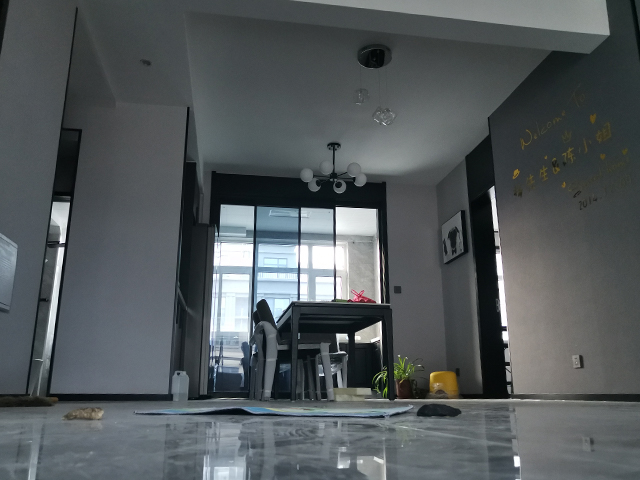carpet: (132, 404, 417, 421)
feces: (414, 402, 463, 418), (61, 405, 107, 422)
stool: (248, 298, 338, 403), (427, 370, 461, 401)
table: (275, 300, 397, 402)
